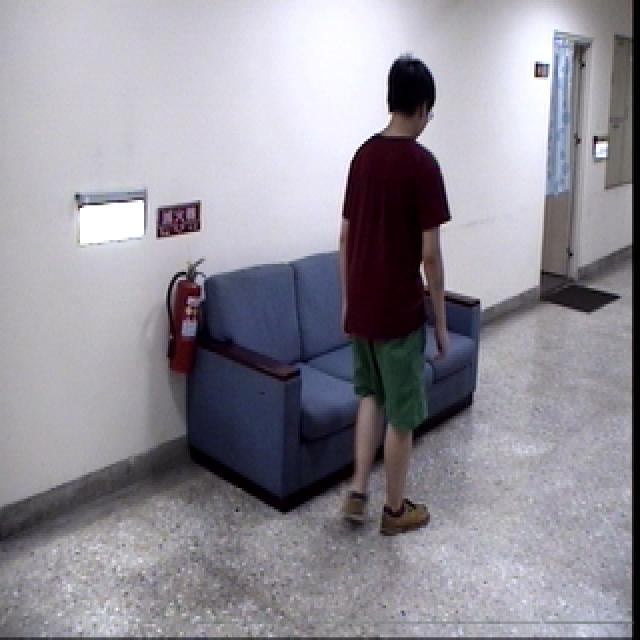stand: (332, 49, 472, 559)
